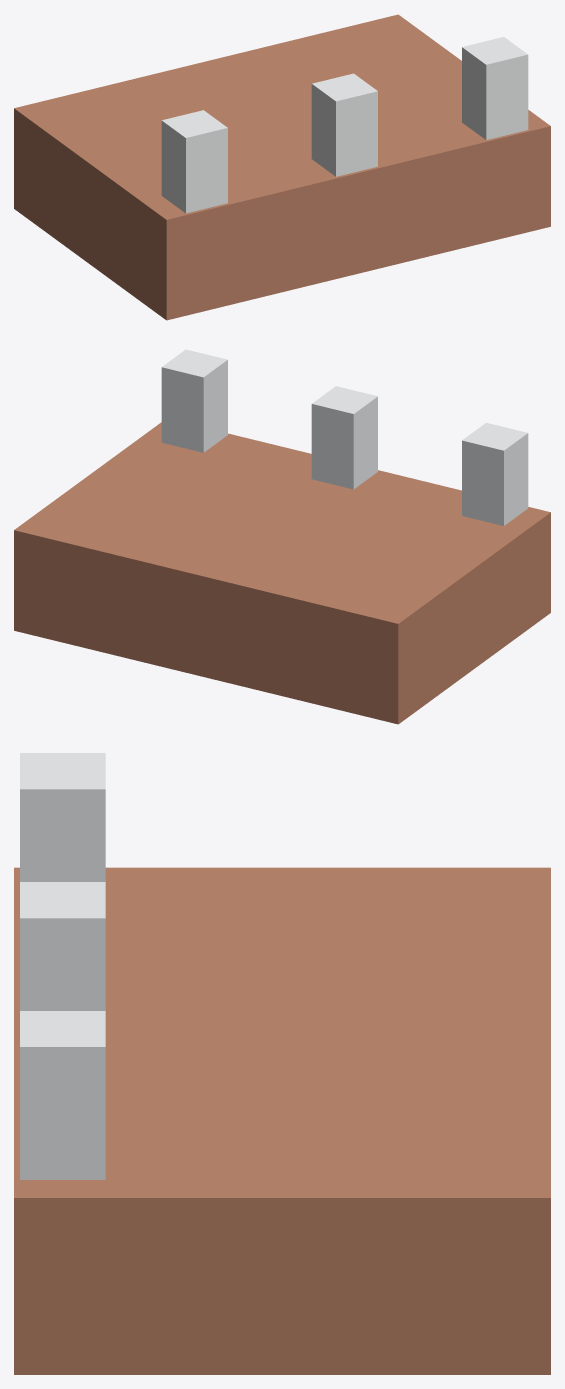
File: civic-roof.glb
The picture shows the model from 3 angles, top to bottom: view 1: azimuth 30°, elevation 25°; view 2: azimuth 150°, elevation 25°; view 3: azimuth 270°, elevation 25°; orthographic projection. The views are drawn at different scales.
Parts seen in each view (by area): view 1: civic-roof; view 2: civic-roof; view 3: civic-roof.
Part boxes in pixels (x1,y1,x2,y2): civic-roof: [14, 14, 550, 320]; civic-roof: [14, 349, 550, 724]; civic-roof: [14, 753, 550, 1374].
Bounding box in the file's own units: 0.64 × 0.28 × 0.44.
